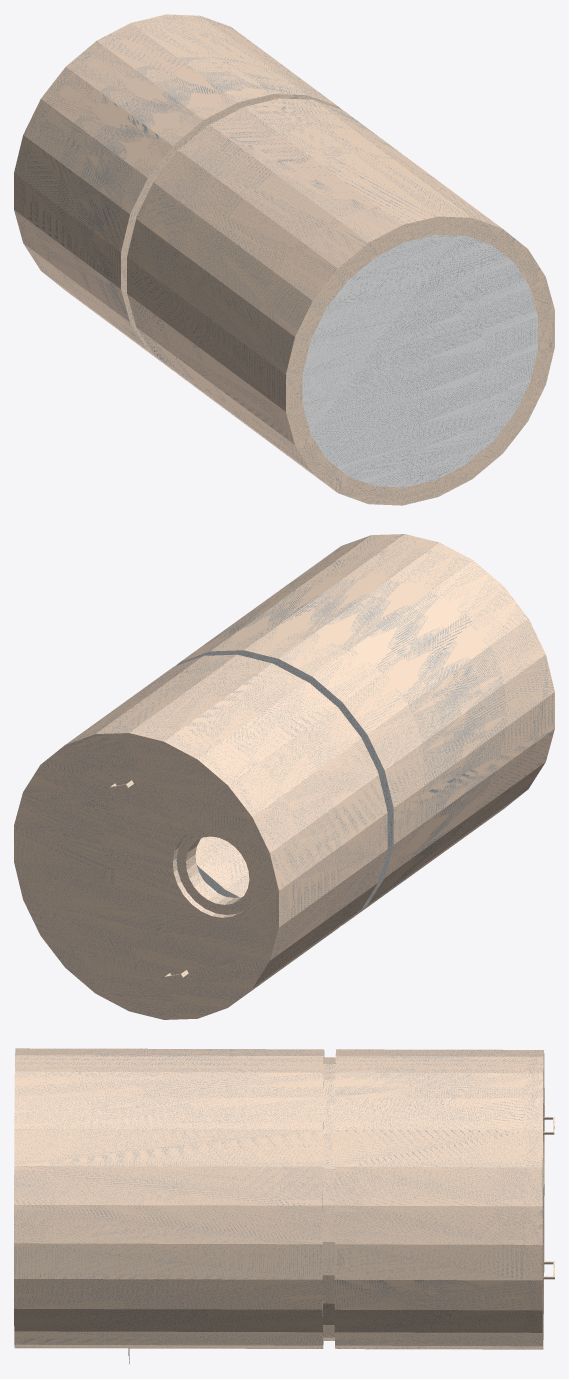
The model's file is Manhole3.dae.
3 views of the same model, one above another, from view 1: azimuth 30°, elevation 25°; view 2: azimuth 150°, elevation 25°; view 3: azimuth 270°, elevation 25° (orthographic). The views are drawn at different scales.
Parts seen in each view (by area): view 1: Component_2 (×3); view 2: Component_2 (×6); view 3: Component_2 (×3).
Boxes of the visible parts, <box> form: Component_2 (×3): <box>14,14,554,505</box>; Component_2 (×6): <box>14,534,554,1019</box>; Component_2 (×3): <box>14,1048,544,1349</box>.
Bounding box in the file's own units: 207 × 372 × 205.
